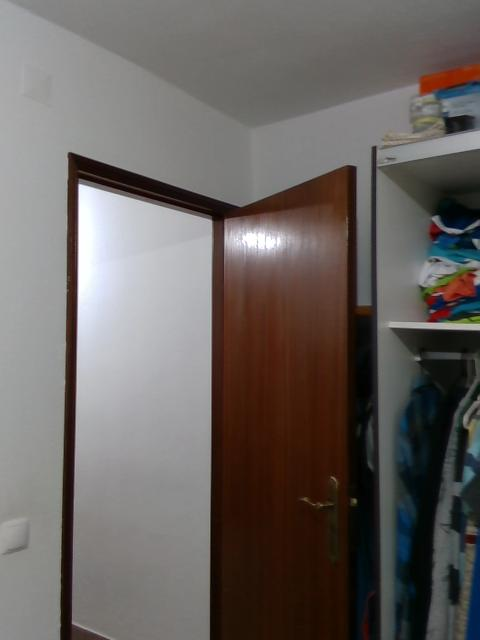open_door: (65, 147, 236, 639)
